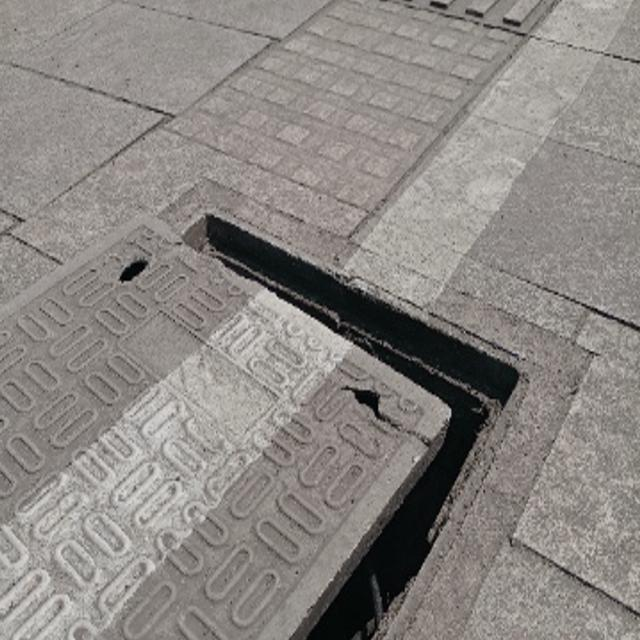uncovered: (1, 201, 532, 640)
